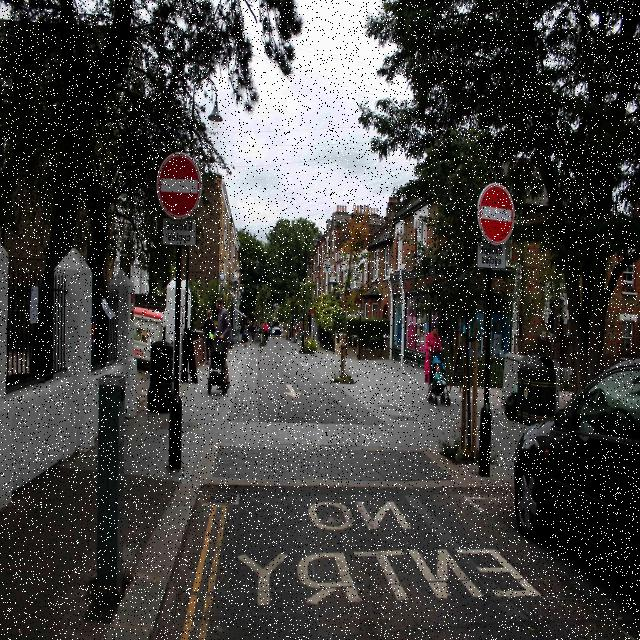no entry: (156, 153, 203, 214), (479, 182, 513, 240)
